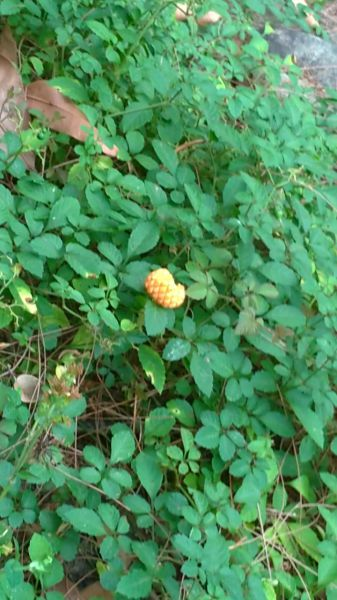eggs: (140, 263, 192, 317)
